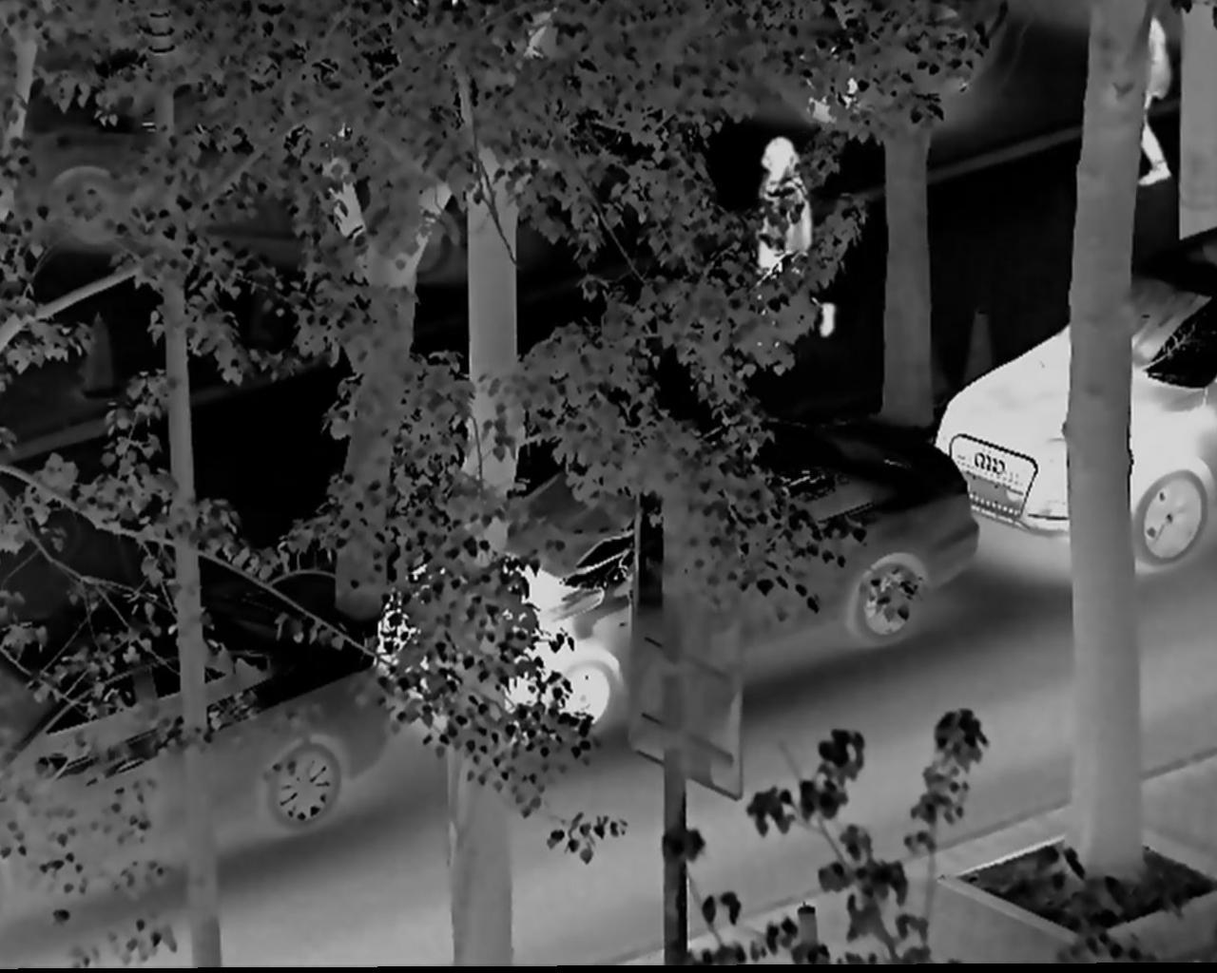person: (744, 142, 844, 376)
